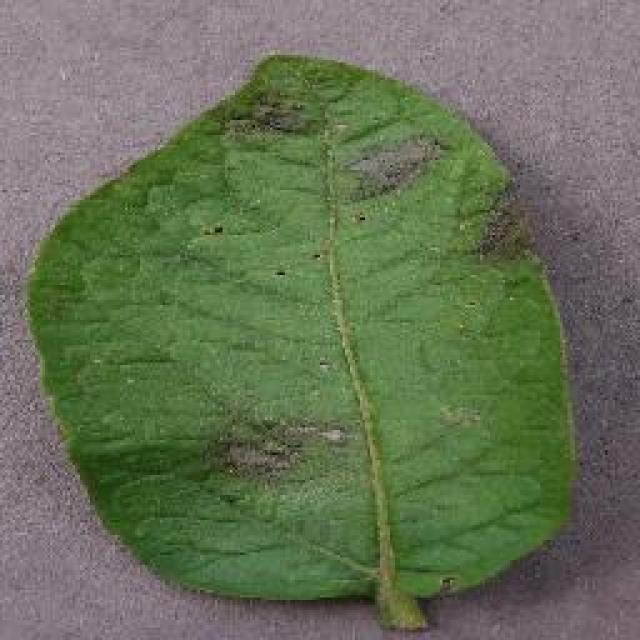Potato: (20, 50, 578, 630)
